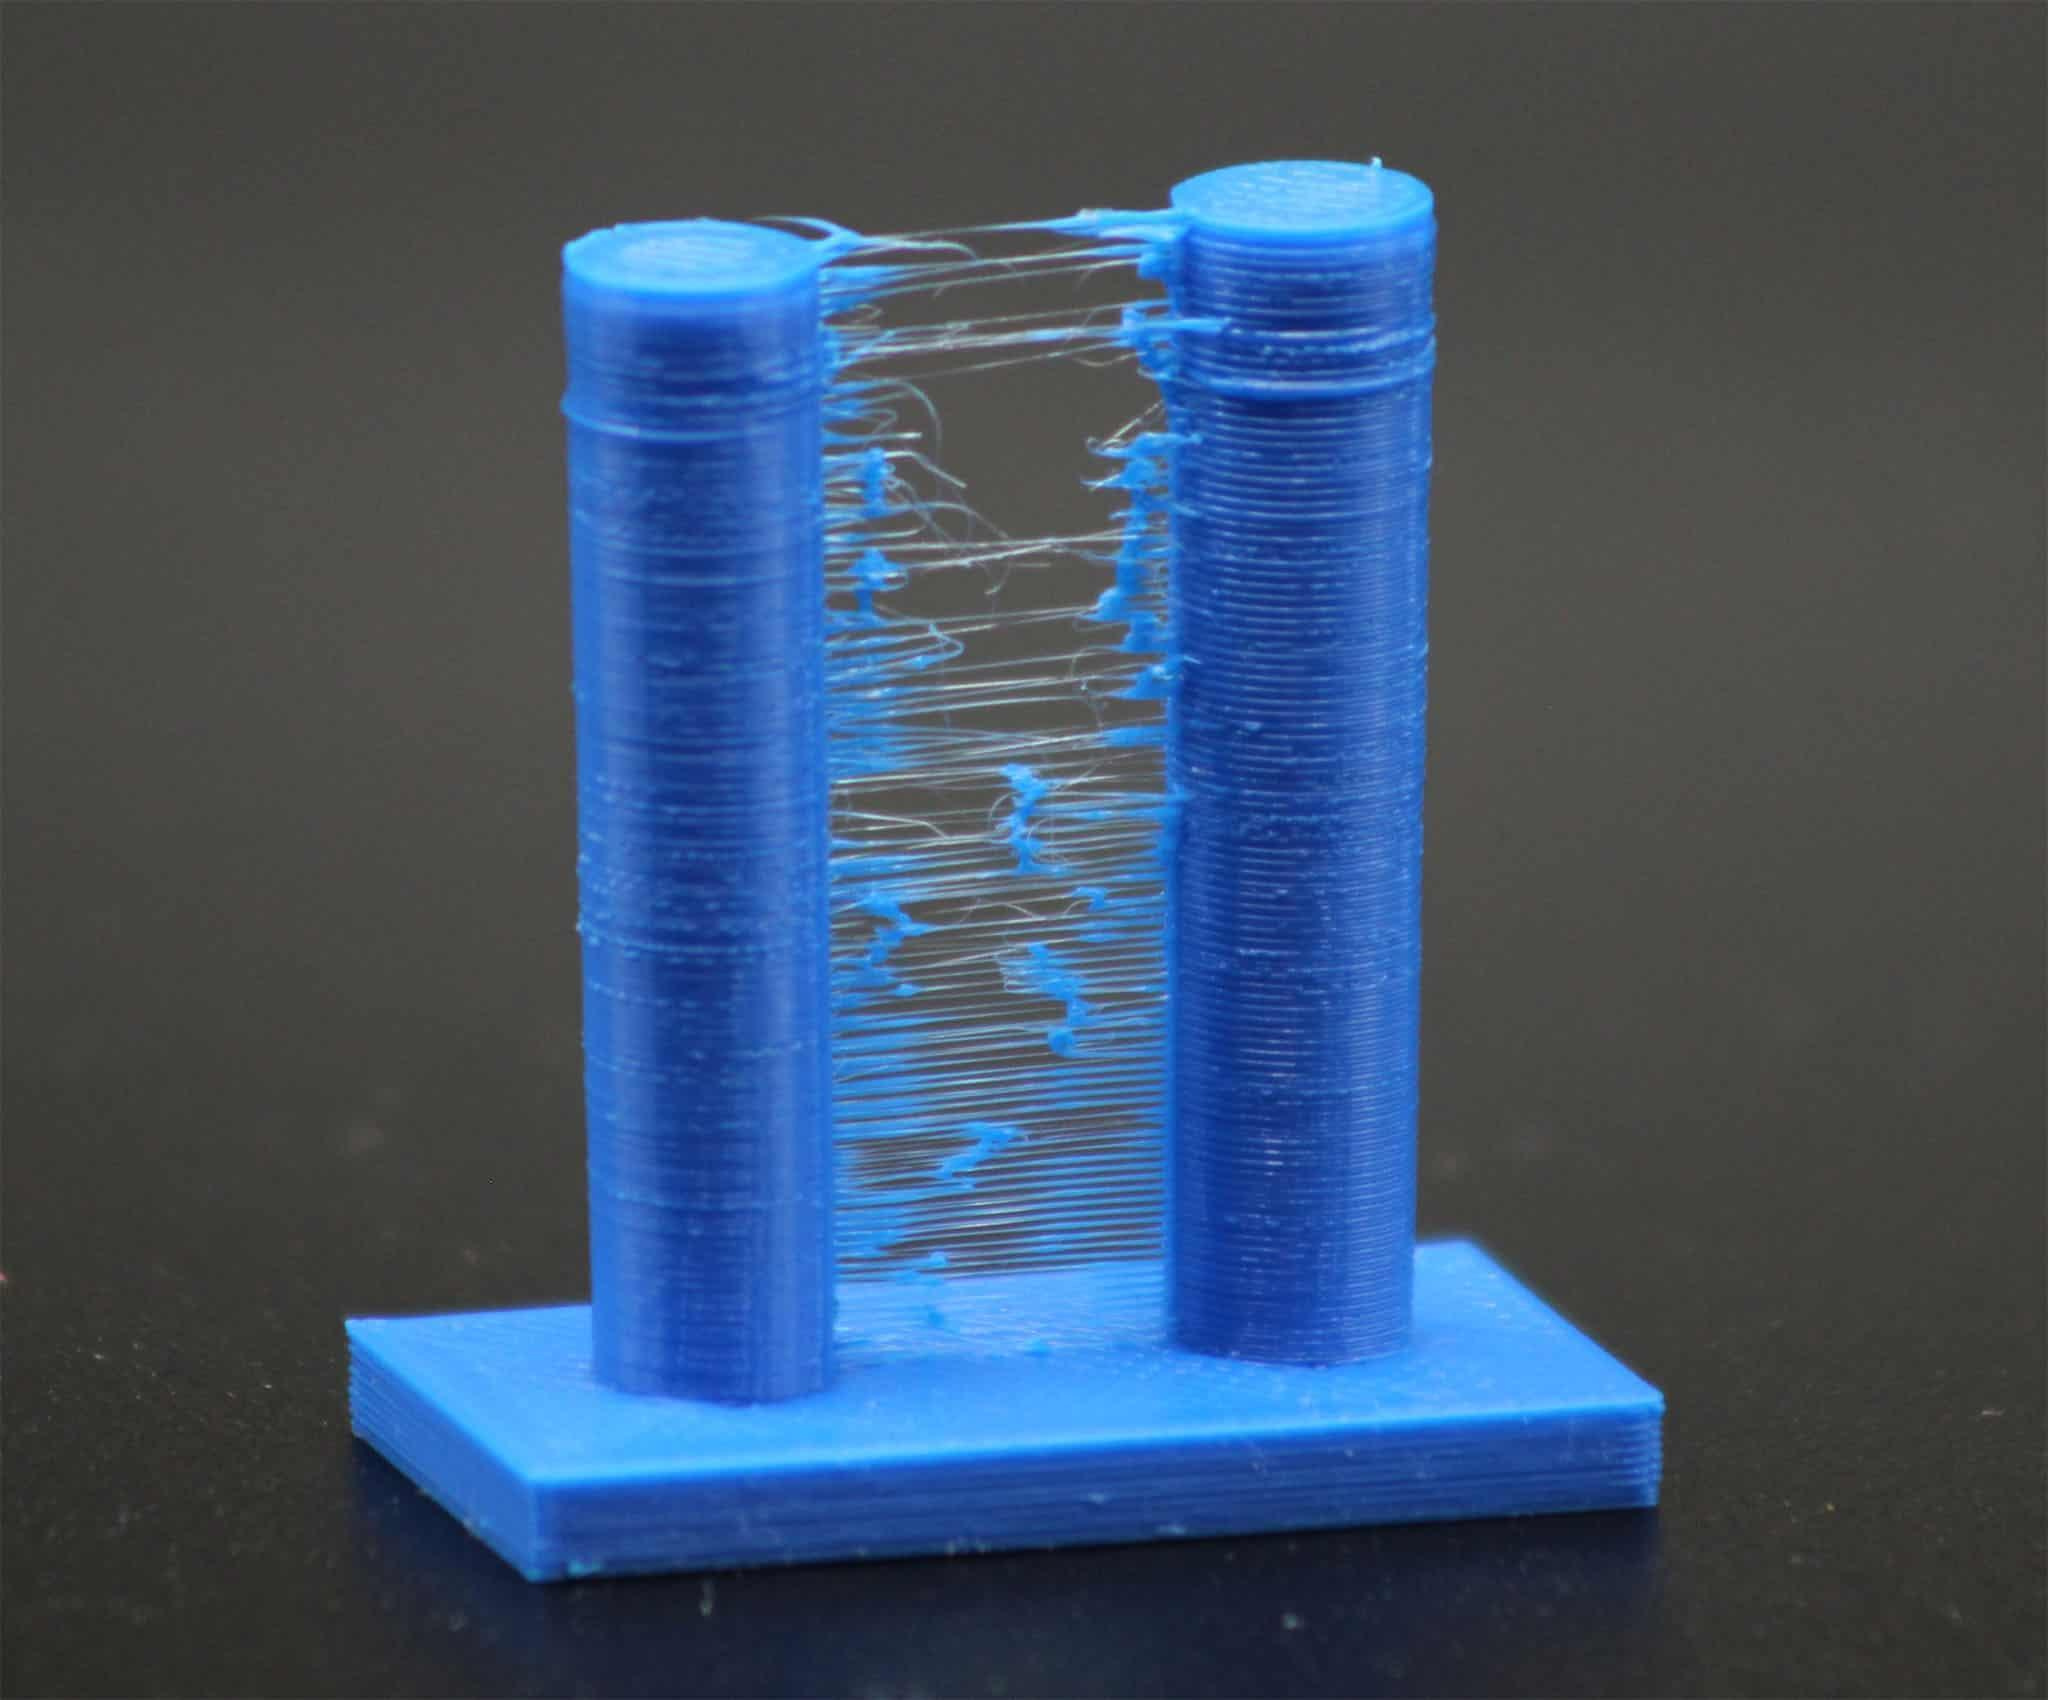Spaghetti: (543, 245, 850, 1416), (1186, 187, 1456, 1361)
Stringing or Oozing: (811, 218, 1182, 1348)
